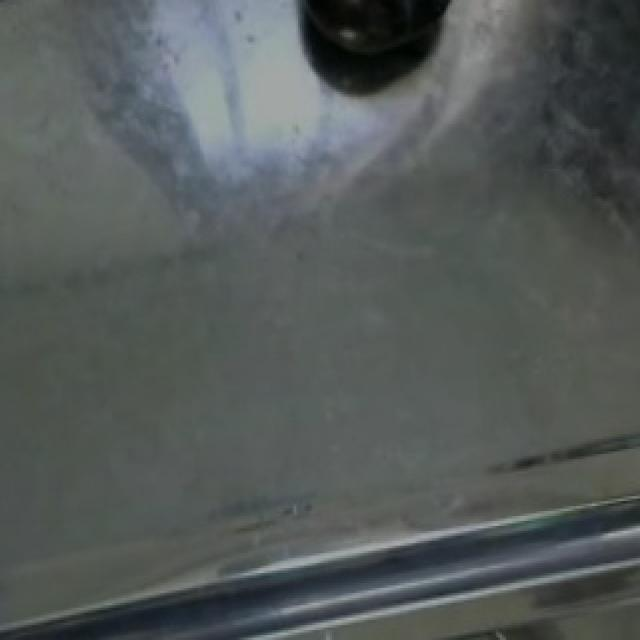Fruit: (290, 0, 462, 74)
